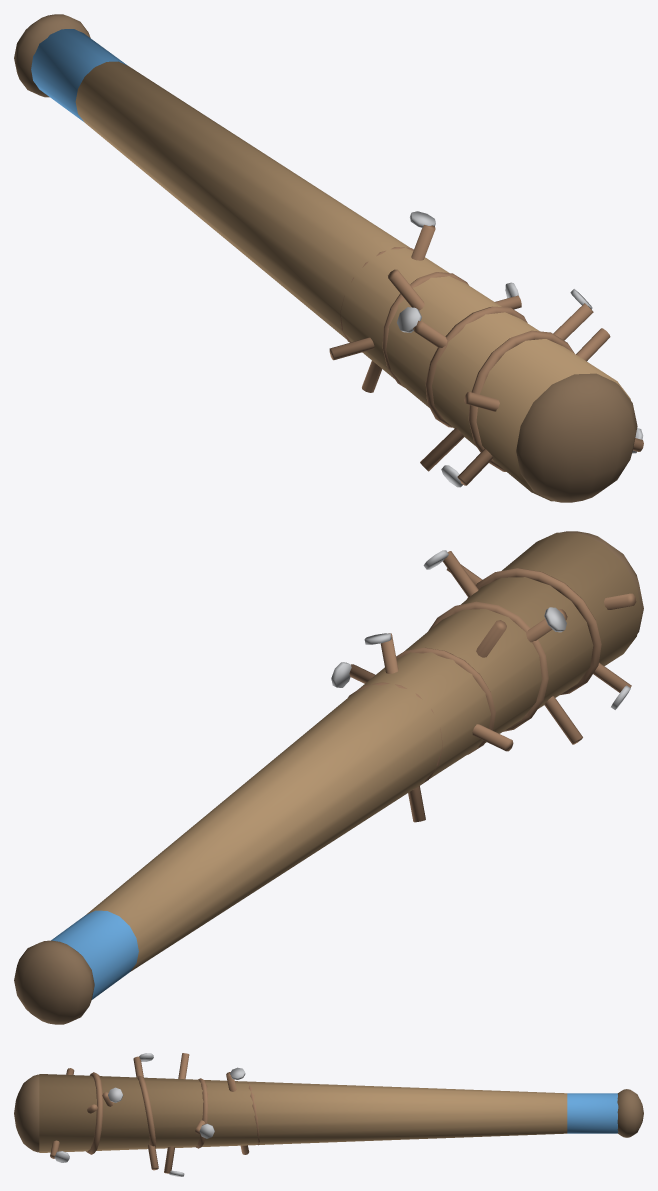
File: weapon_bat.glb
3 views of the same model, one above another, from view 1: azimuth 30°, elevation 25°; view 2: azimuth 150°, elevation 25°; view 3: azimuth 270°, elevation 25° (orthographic). The views are drawn at different scales.
Visible parts, largest first — view 1: Vasiliy_Bat; view 2: Vasiliy_Bat; view 3: Vasiliy_Bat.
Part boxes in pixels (x1,y1,x2,y2): Vasiliy_Bat: (14,14,643,502); Vasiliy_Bat: (14,531,643,1024); Vasiliy_Bat: (14,1053,643,1176).
Size of the model in its own units: 0.1541 by 0.1455 by 0.8255.
